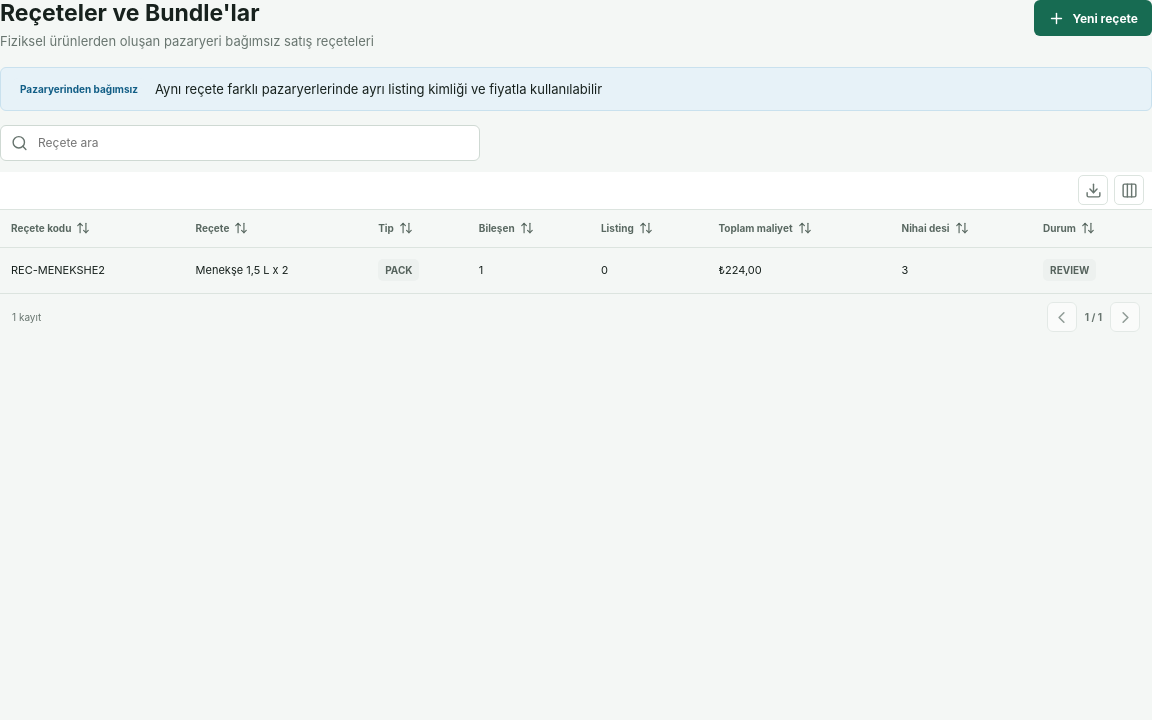
Test: Merkezi PIM ekranları › reçete yalnız açık insan onayıyla APPROVED olur
The width and height of the screenshot is (1152, 720).
Click the text "REC-MENEKSHE2" at (92, 270), box [0,248,185,293]
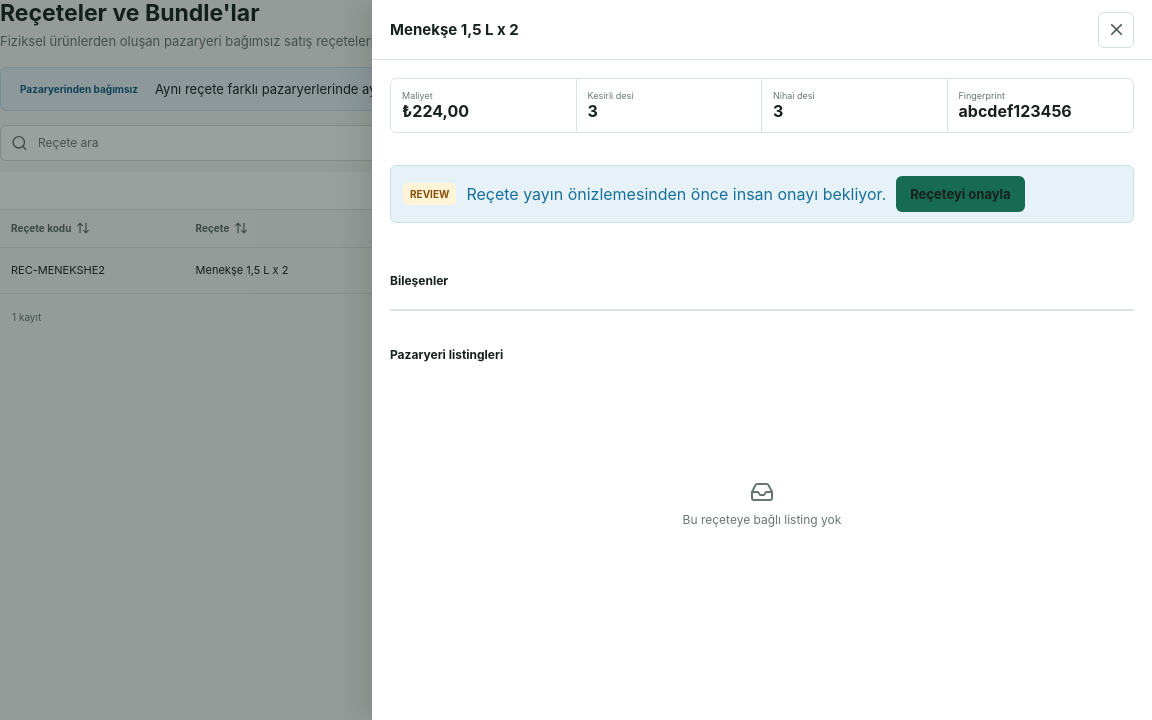
Click the button "Reçeteyi onayla" at (960, 194), box [896,176,1025,212]
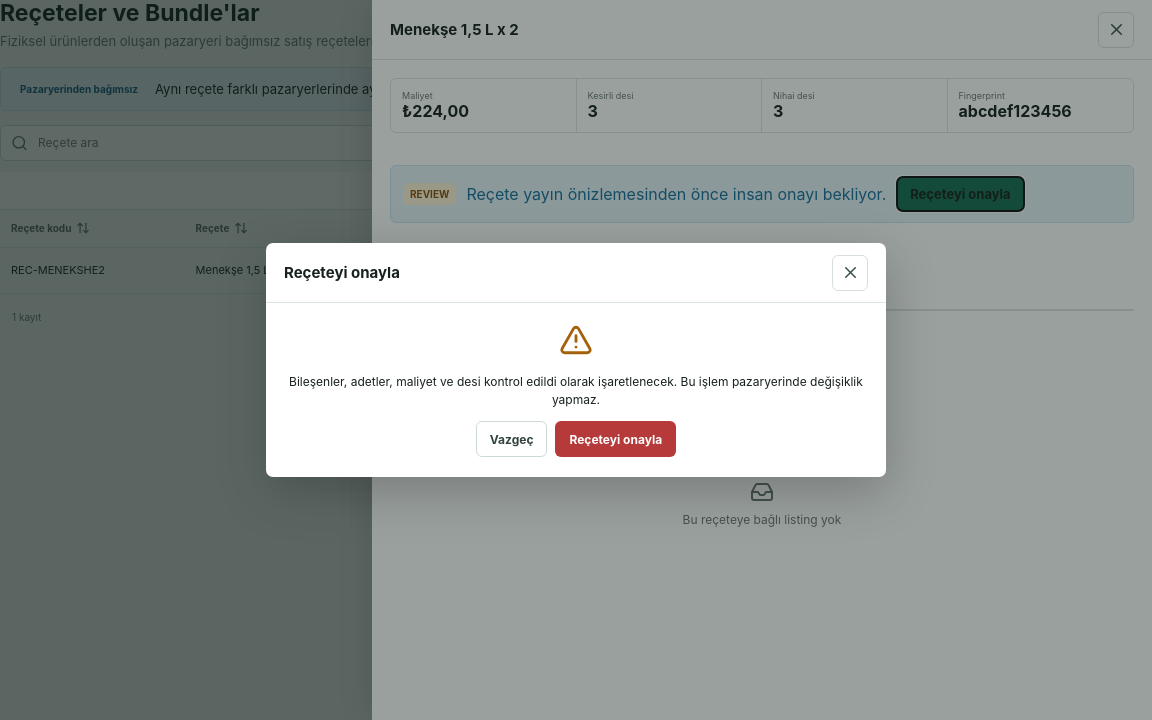
Click the button "Reçeteyi onayla" at (616, 439), box [556,421,676,457]
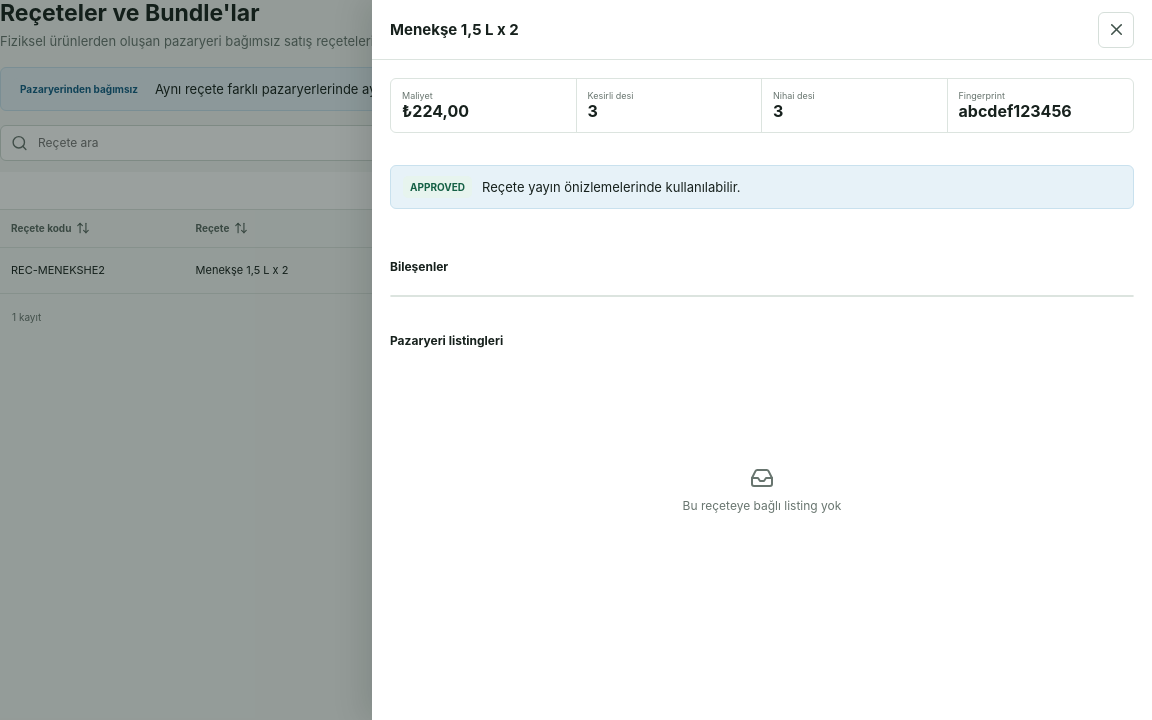
Check: the text "APPROVED" is shown, box [403,176,472,198]
